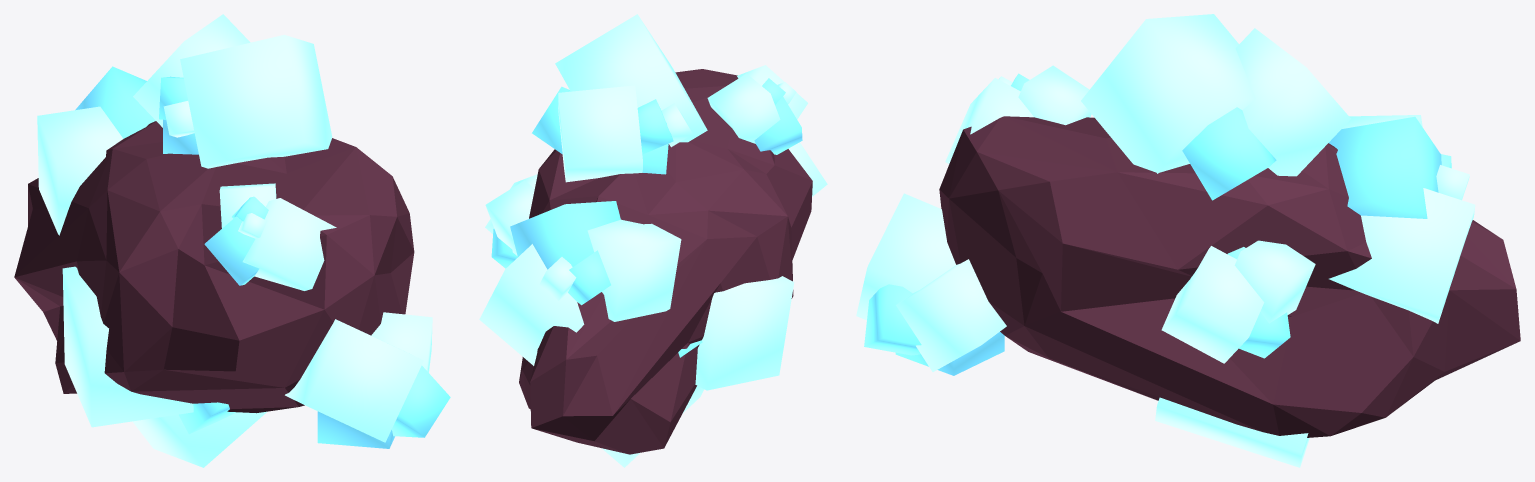
Rendered from IceCrystalDeposit.fbx.
3 views of the same model, side by side, from view 1: azimuth 30°, elevation 25°; view 2: azimuth 150°, elevation 25°; view 3: azimuth 270°, elevation 25° (orthographic). The views are drawn at different scales.
Visible parts, largest first — view 1: Asteroid1.002; view 2: Asteroid1.002; view 3: Asteroid1.002.
Boxes of the visible parts, box(x1,y1,x2,y2) form: Asteroid1.002: box(14, 14, 450, 467); Asteroid1.002: box(479, 14, 827, 467); Asteroid1.002: box(856, 14, 1520, 467).
Bounding box in the file's own units: 237 × 328 × 412.
